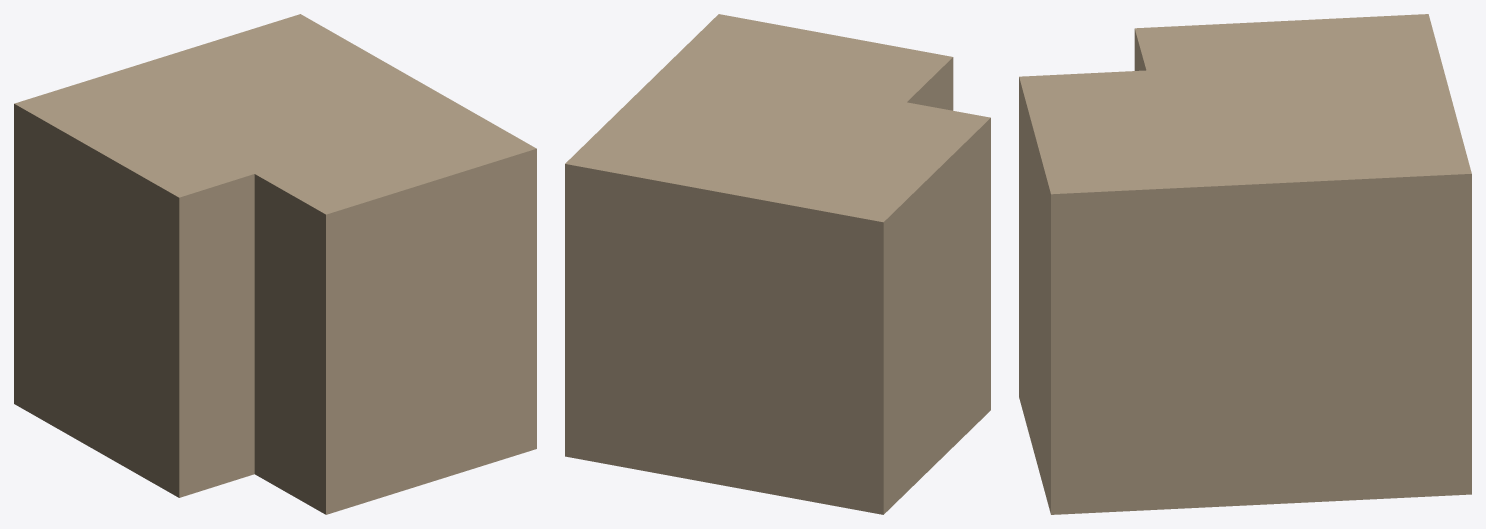
File: bld_101562311.dae
The picture shows the model from 3 angles, left to right: view 1: azimuth 30°, elevation 25°; view 2: azimuth 150°, elevation 25°; view 3: azimuth 270°, elevation 25°; orthographic projection. The views are drawn at different scales.
Parts seen in each view (by area): view 1: bld_101562311; view 2: bld_101562311; view 3: bld_101562311.
Boxes of the visible parts, bbox=[...] form: bld_101562311: bbox=[14, 14, 536, 514]; bld_101562311: bbox=[565, 14, 990, 514]; bld_101562311: bbox=[1019, 14, 1471, 514].
Bounding box in the file's own units: 9.64 × 10.24 × 8.
